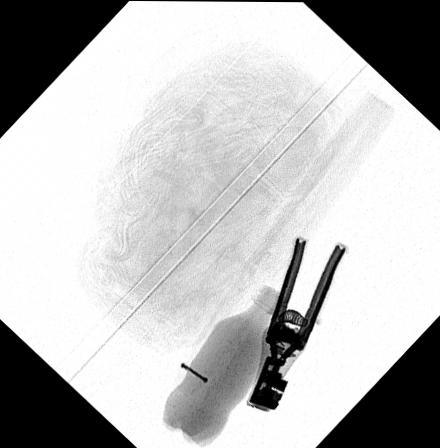Pliers: (247, 234, 348, 408)
